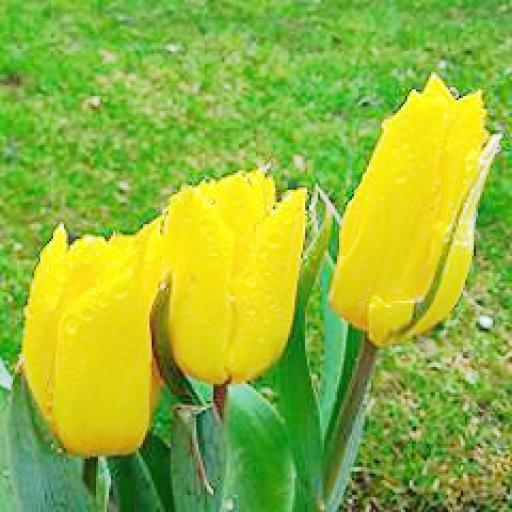tulip: (331, 72, 497, 348), (24, 222, 166, 456), (160, 164, 303, 382)
